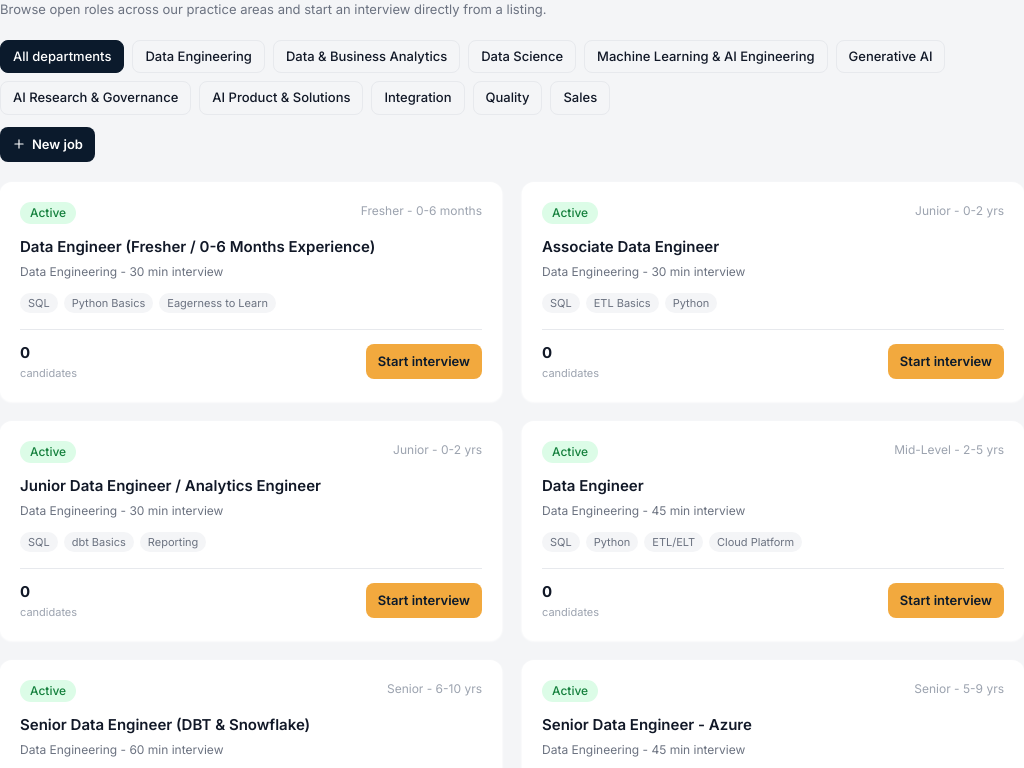
JobLibraryView › "New job" opens a real form and adding a job makes it appear in the list
This screenshot has width=1024, height=768.
Click the button "New job" at (48,144), box [0,126,95,162]
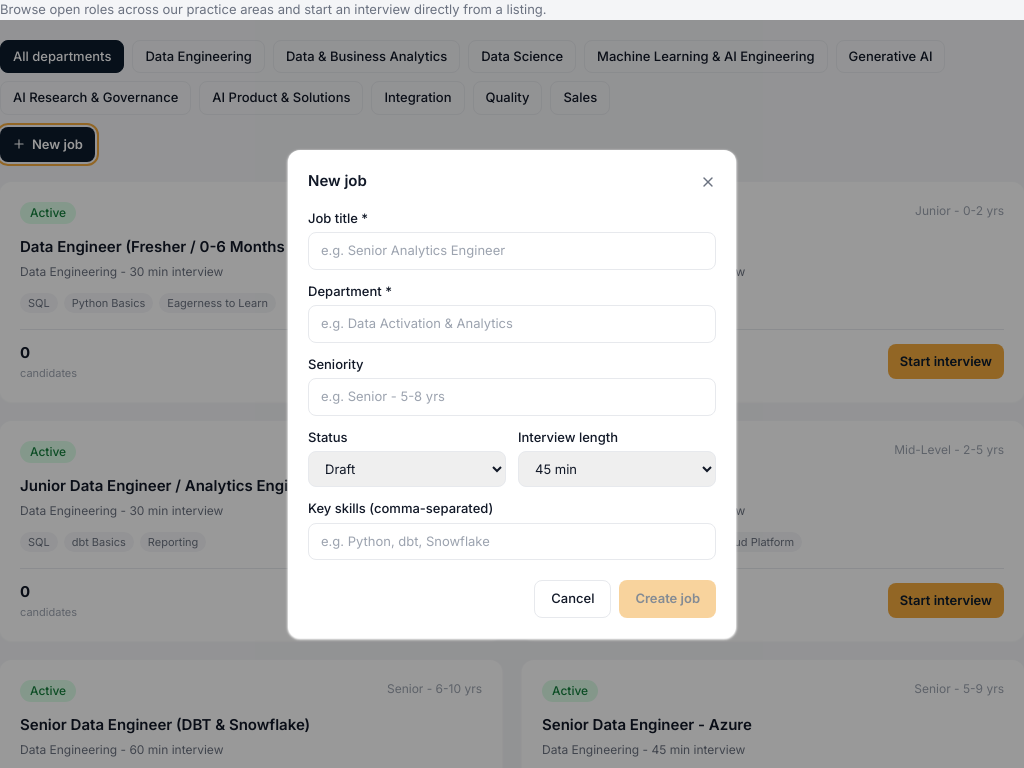
Type "Test Role" into the field with placeholder "e.g. Senior Analytics Engineer" at (512,251), box [308,232,716,270]
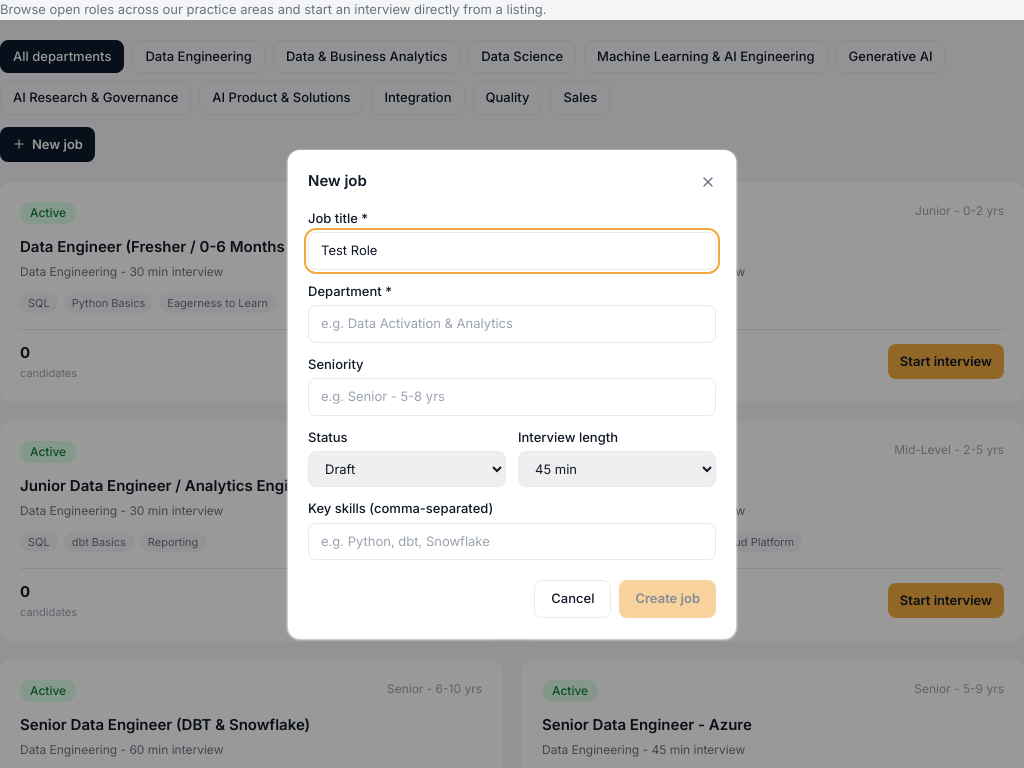
Type "Test Department" into the field with placeholder "e.g. Data Activation & Analytics" at (512,324), box [308,305,716,343]
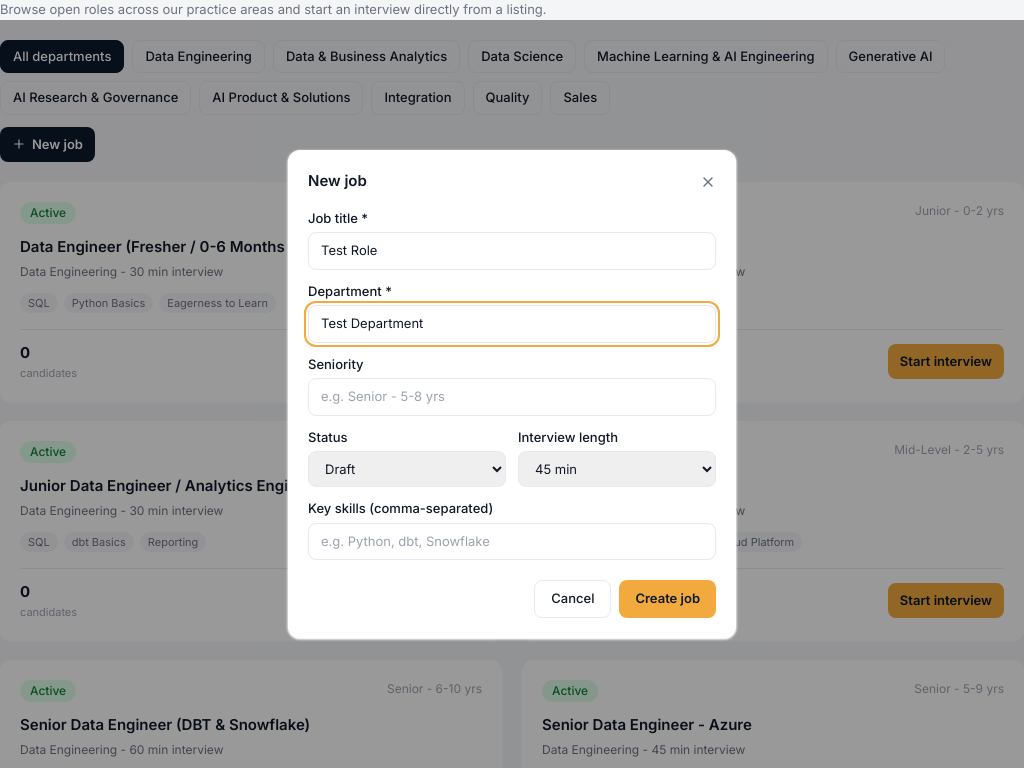
Click the button "Create job" at (668,599), box [619,580,716,618]
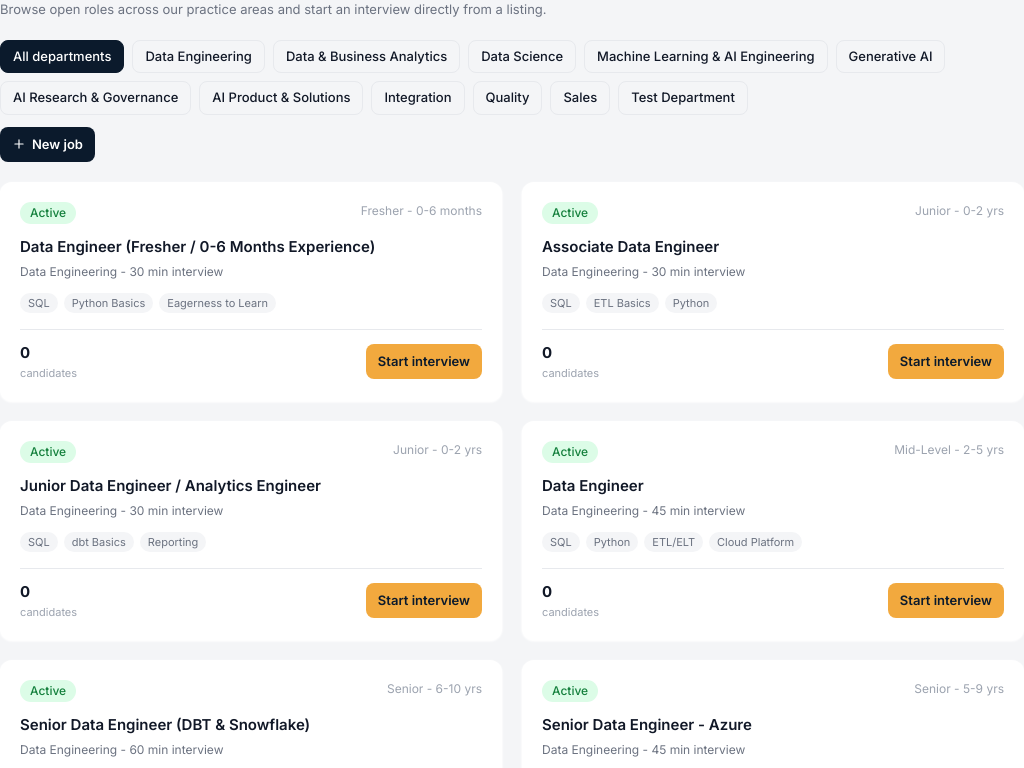
Expected: the button "Test Department" is shown, [618,81,748,114]
